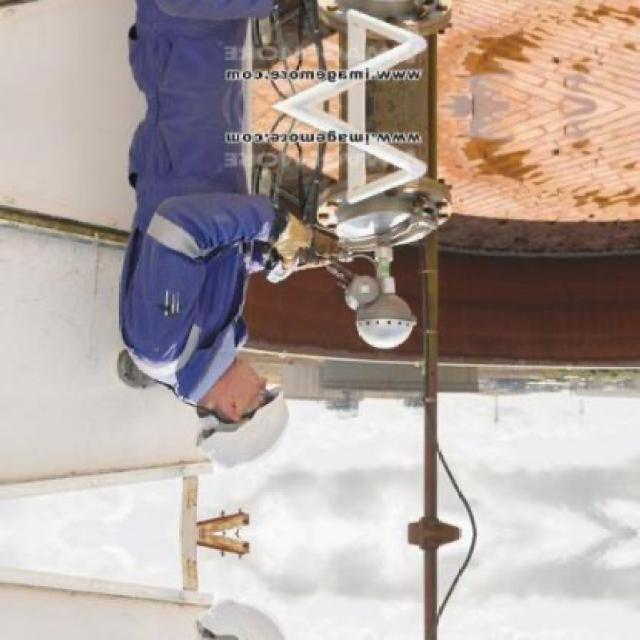con casco: (176, 357, 318, 491)
